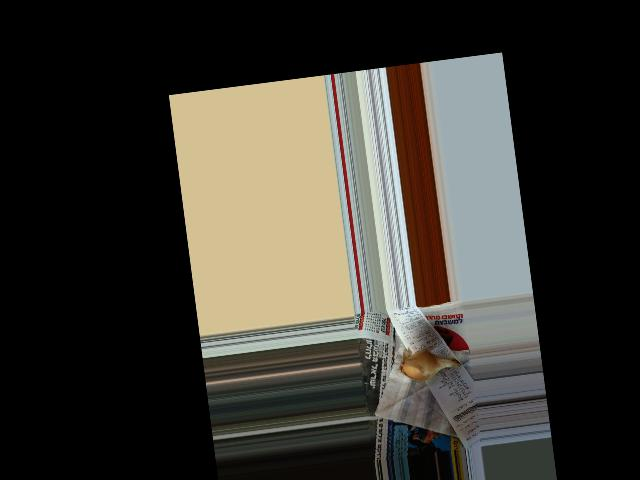onion: (400, 348, 446, 384)
